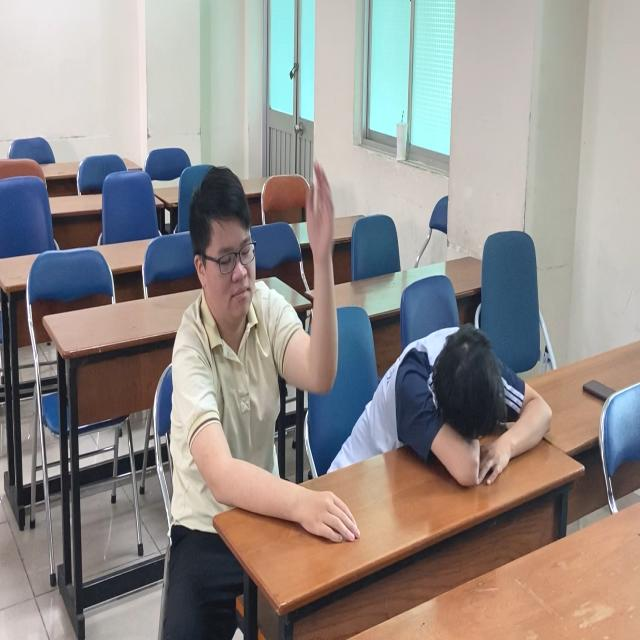raise_hand: (179, 151, 354, 503)
sleep: (377, 323, 562, 503)
